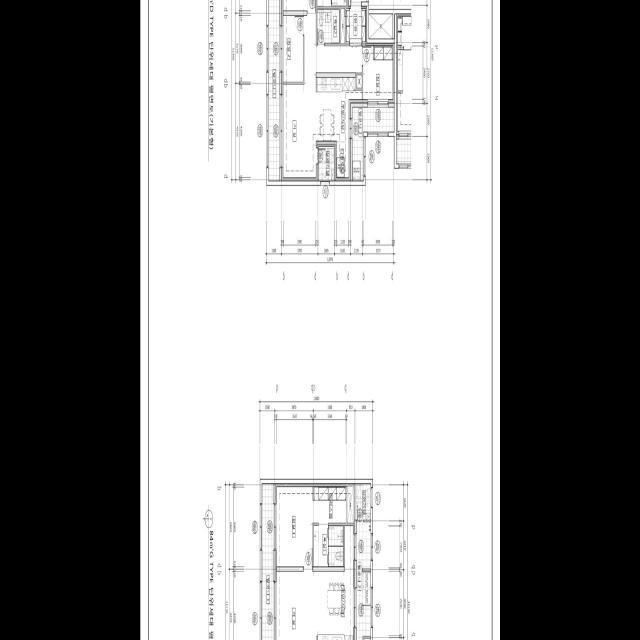background: (140, 0, 500, 640)
space_balconi: (352, 108, 394, 181), (268, 0, 279, 181), (262, 484, 273, 640), (357, 522, 370, 640)
space_bedroom: (275, 484, 312, 567), (363, 43, 394, 103), (281, 16, 303, 82)
space_dressroom: (312, 487, 346, 523)
space_front: (346, 6, 366, 44)
space_kitchen: (316, 526, 354, 640), (316, 78, 362, 144)
space_living_room: (281, 13, 362, 181), (275, 572, 316, 640)
space_multipurpose_space: (335, 141, 350, 181)
space_other: (369, 14, 392, 39), (347, 484, 354, 523), (340, 9, 345, 44), (356, 75, 362, 88)
space_outdoor_room: (355, 483, 370, 520), (318, 147, 334, 181)
space_toilet: (313, 525, 343, 567), (317, 9, 339, 44), (331, 0, 346, 6)
